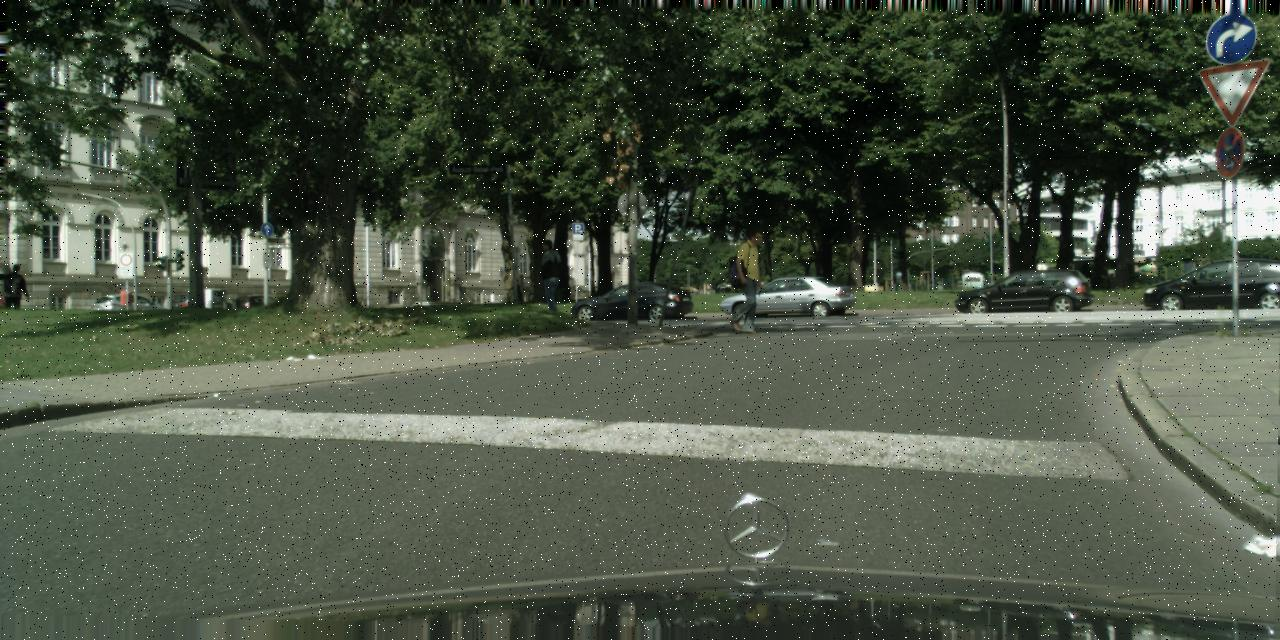ped: (727, 230, 768, 331), (534, 238, 565, 314), (1, 264, 26, 324)
